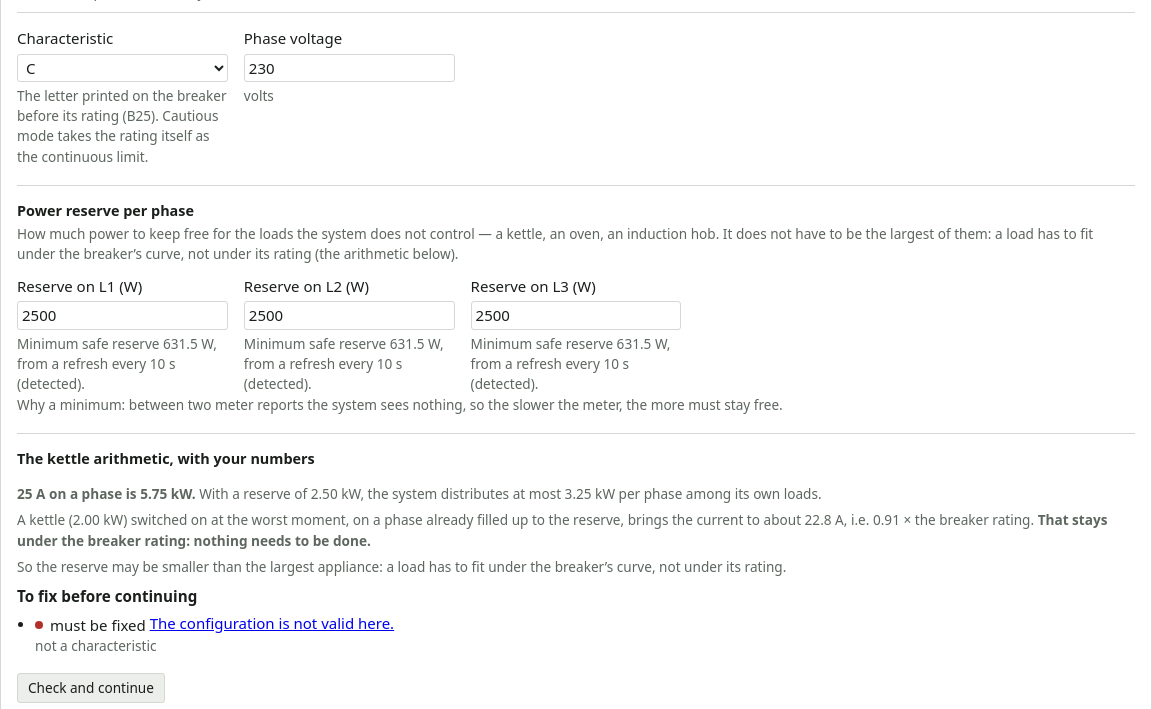
Test: connection fields › continue is refused naming the failed step-2 field
(page scrolled)
Click the button "Check and continue" at (91,688), box [17, 673, 165, 703]
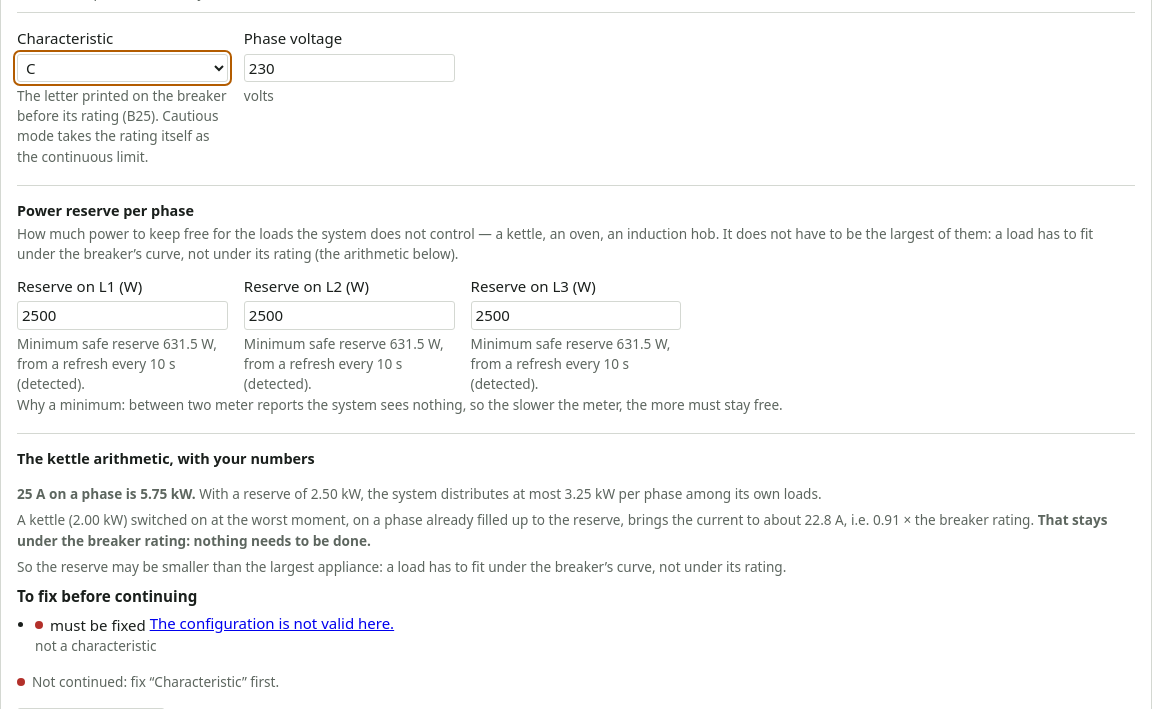
Result: the message "Not continued: fix “Characteristic” first." is shown at [17, 672, 279, 691]
